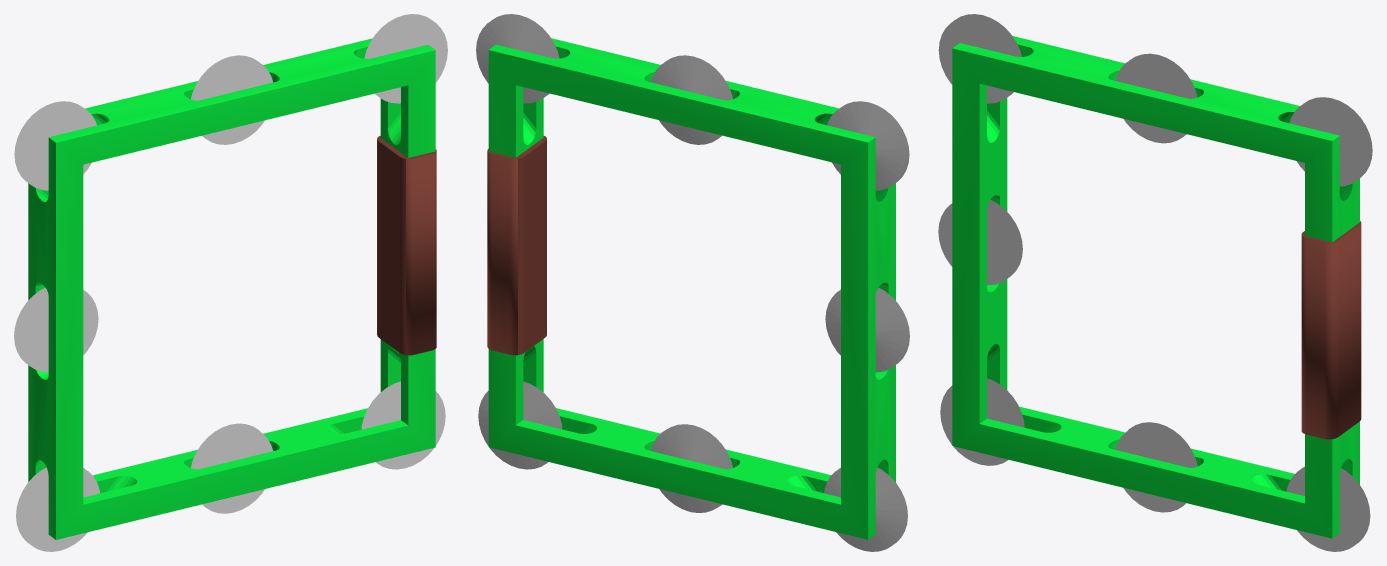
File: tambarin_shikaku2.fbx
The picture shows the model from 3 angles, left to right: view 1: azimuth 30°, elevation 25°; view 2: azimuth 150°, elevation 25°; view 3: azimuth 330°, elevation 25°; orthographic projection.
Visible parts, largest first — view 1: 立方体, 立方体.011, 円錐.013, 円錐.003, 円錐.007, 円錐.001, 円錐.015, 円錐.011, 円錐.009; view 2: 立方体, 立方体.011, 円錐.012, 円錐.002, 円錐.006, 円錐, 円錐.014, 円錐.010, 円錐.008; view 3: 立方体, 立方体.011, 円錐.015, 円錐.007, 円錐.003, 円錐.001, 円錐.013, 円錐.009, 円錐.011.
Part boxes in pixels (x1,y1,x2,y2): 立方体: (28,38,435,539); 立方体.011: (377,136,436,355); 円錐.013: (18,103,96,190); 円錐.003: (195,58,272,144); 円錐.007: (194,426,272,513); 円錐.001: (17,290,98,372); 円錐.015: (368,16,447,103); 円錐.011: (19,468,99,551); 円錐.009: (365,385,445,469); 立方体: (488,38,895,539); 立方体.011: (487,136,546,355); 円錐.012: (827,103,905,190); 円錐.002: (651,58,728,144); 円錐.006: (650,426,729,512); 円錐: (825,290,906,372); 円錐.014: (476,16,555,103); 円錐.010: (824,468,904,551); 円錐.008: (478,385,558,469); 立方体: (952,36,1359,538); 立方体.011: (1301,221,1361,439); 円錐.015: (1289,99,1369,186); 円錐.007: (1115,425,1193,512); 円錐.003: (1115,56,1193,143); 円錐.001: (938,203,1019,285); 円錐.013: (938,16,1017,103); 円錐.009: (1286,467,1366,551); 円錐.011: (940,382,1020,465).
Bounding box in the file's own units: 9.54 × 9.61 × 1.23.
